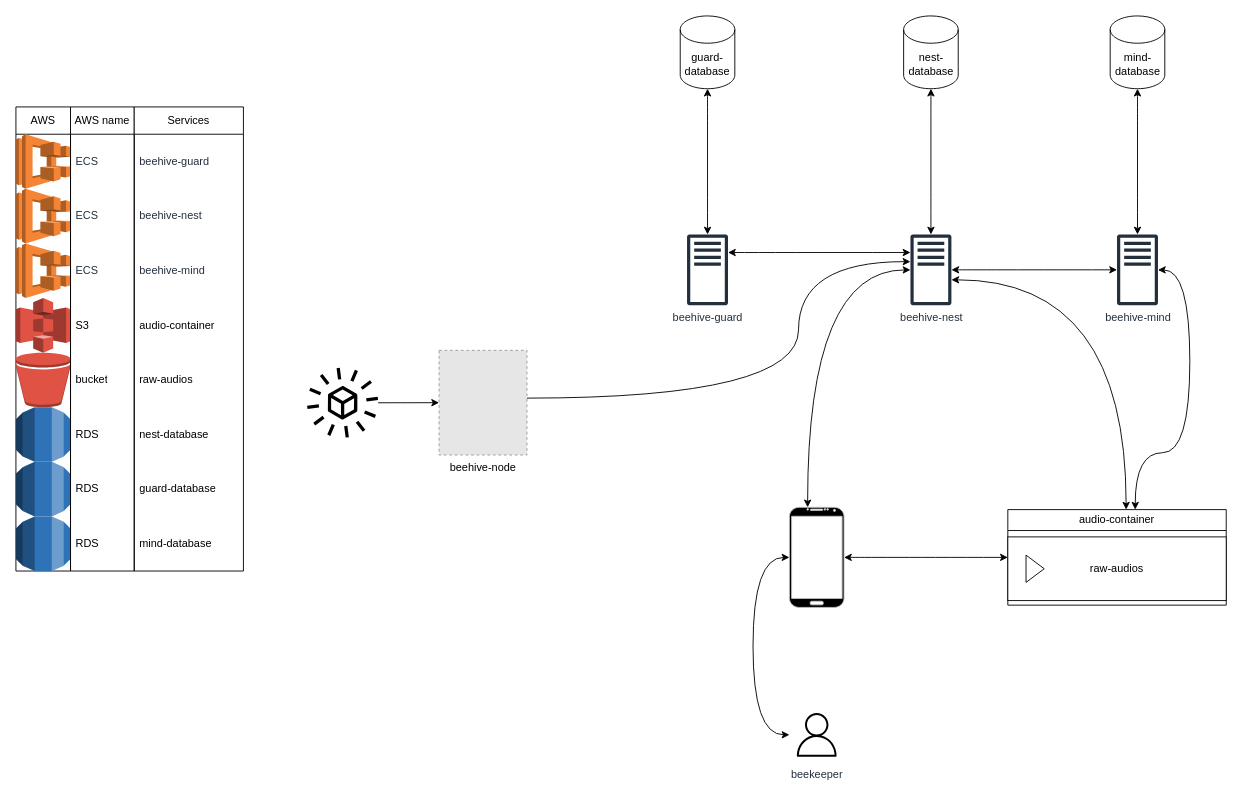
This 1242x797 diagram has some shape labels left out. Grey dashed boxes stand in for pictures. Here are the shapes that lost their labels. From the top down, the centre of each, then its label:
At (342,402): "beehive".
At (816,556): "beehive-app".
